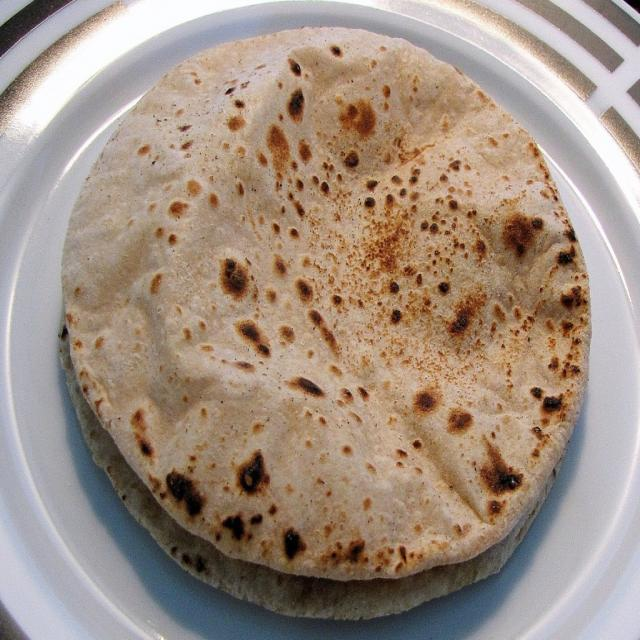ROTI: (62, 31, 590, 618)
